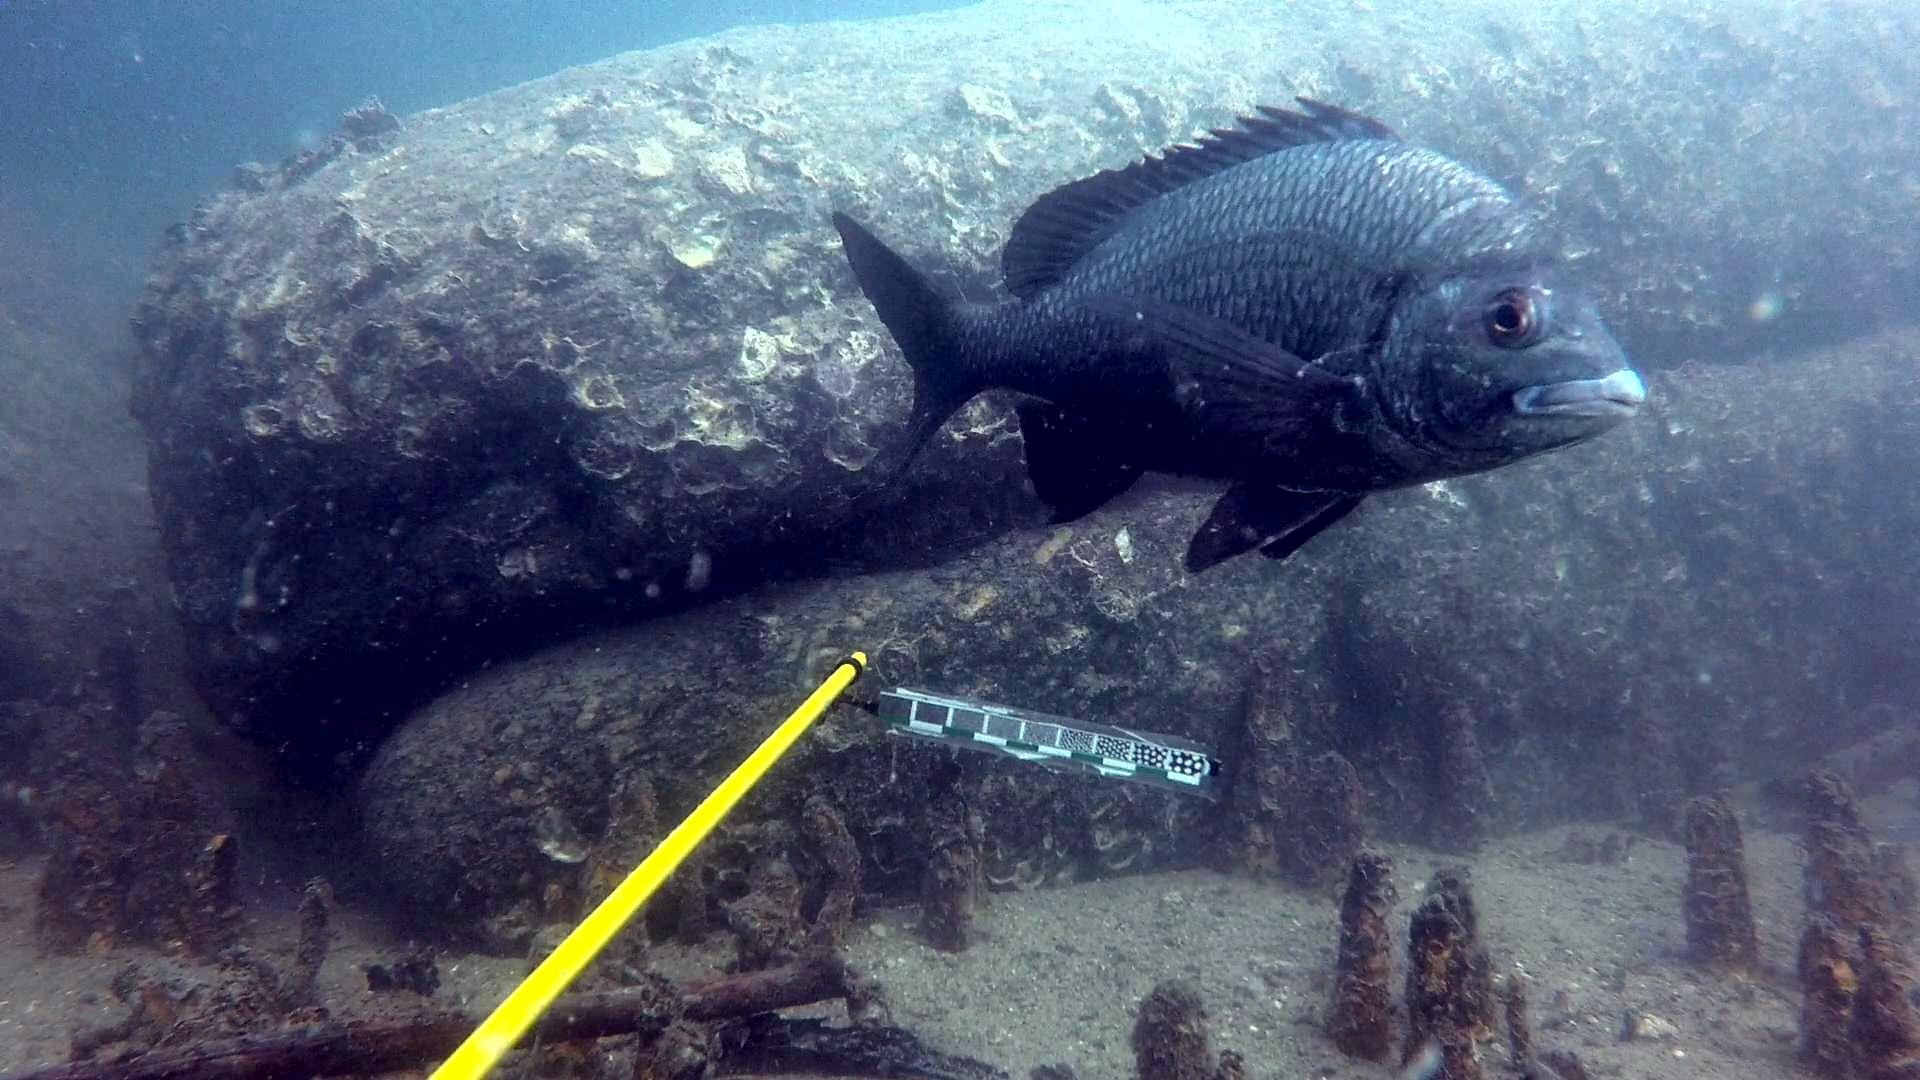acanthopagrus palmaris: (823, 95, 1651, 575)
